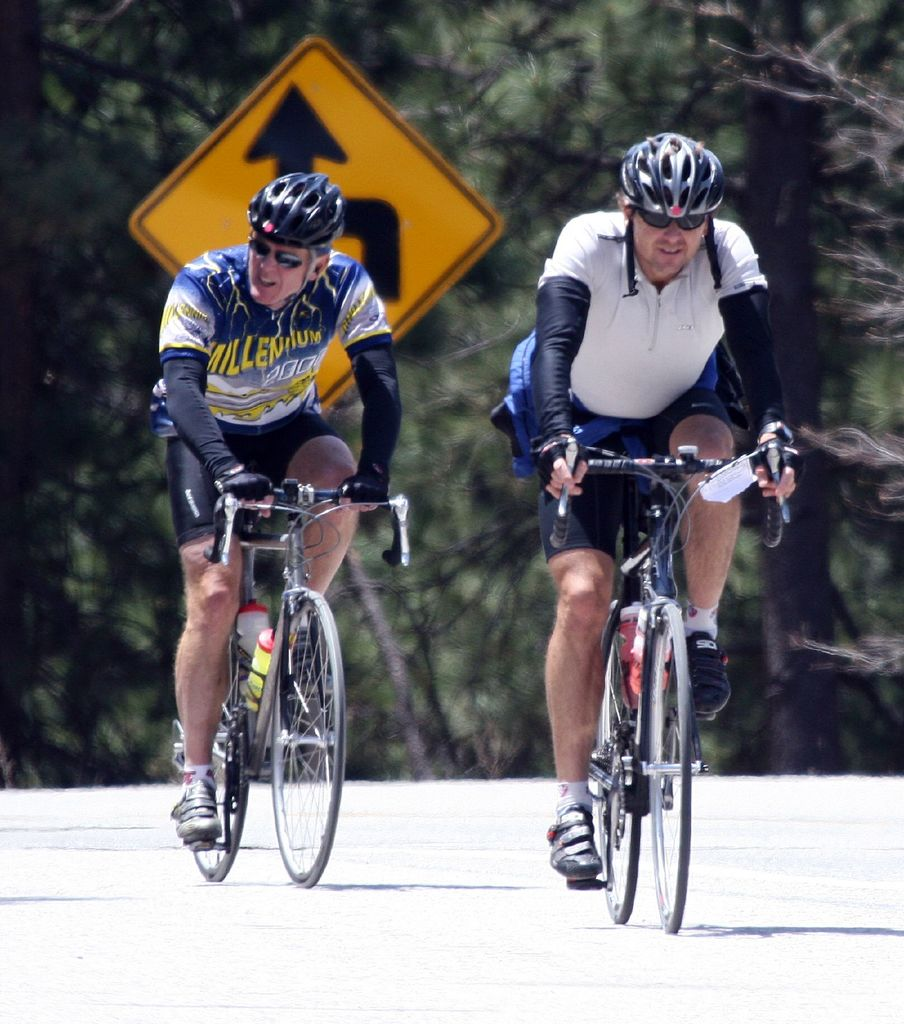Bike_toward: (149, 530, 456, 899)
